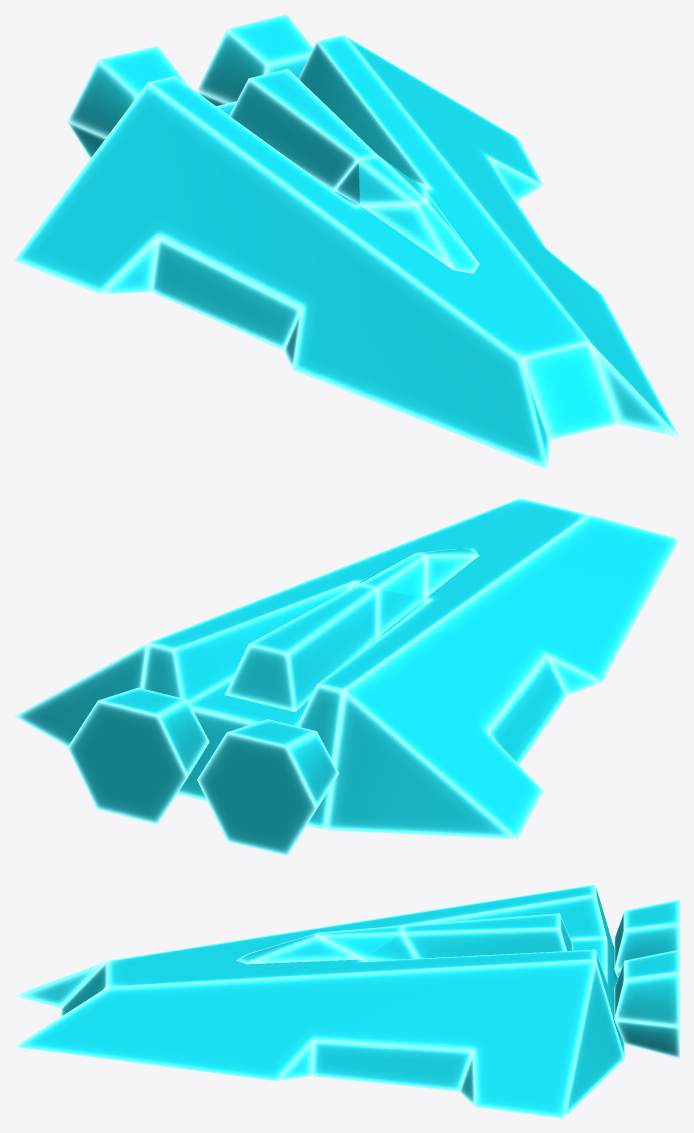
File: ally_scout.FBX
The picture shows the model from 3 angles, top to bottom: view 1: azimuth 30°, elevation 25°; view 2: azimuth 150°, elevation 25°; view 3: azimuth 270°, elevation 25°; orthographic projection. The views are drawn at different scales.
Visible parts, largest first — view 1: Scout_player; view 2: Scout_player; view 3: Scout_player.
Part boxes in pixels (x1,y1,x2,y2): Scout_player: [14, 14, 679, 469]; Scout_player: [14, 498, 679, 855]; Scout_player: [14, 884, 679, 1118].
Bounding box in the file's own units: 22.95 × 6.91 × 33.27.
